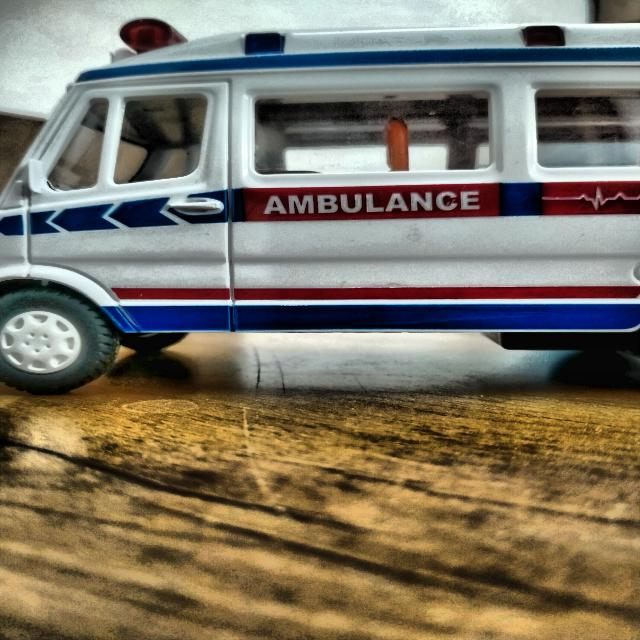Ambulance: (2, 10, 637, 403)
